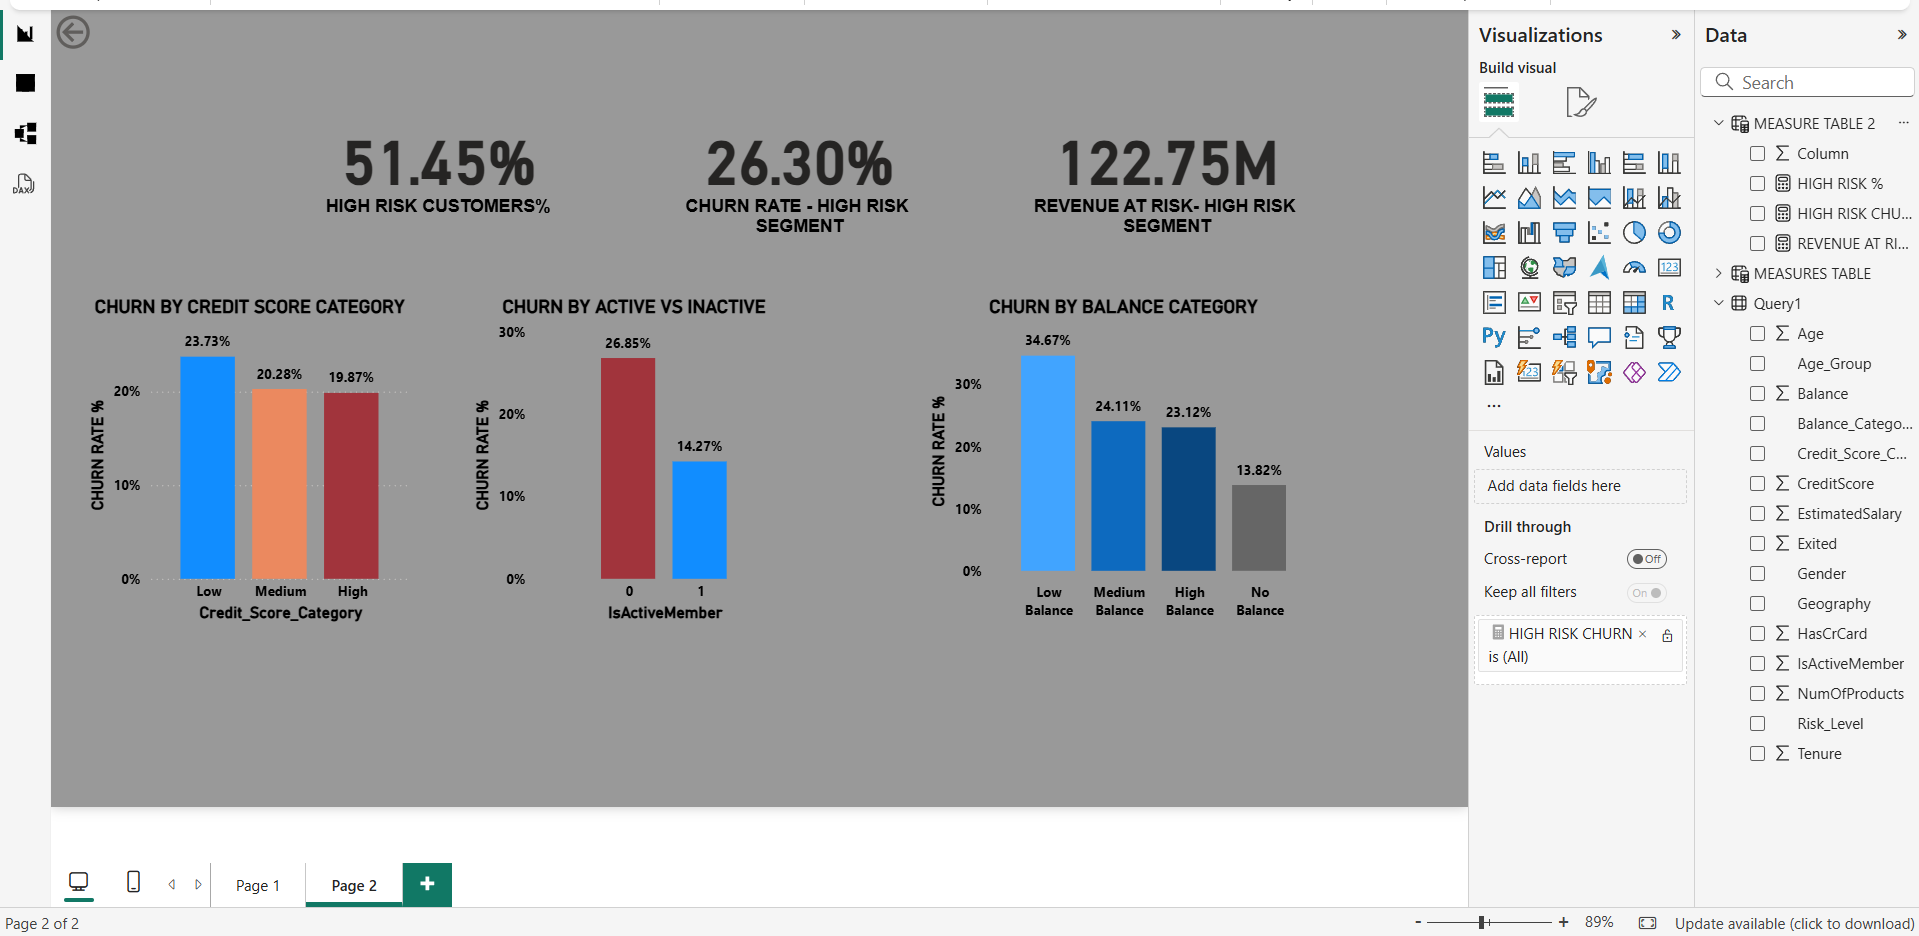

What the dashboard file says about the page in this screenshot:
{"tool":"powerbi","page":{"name":"Page 2","canvas":[1280,720],"ordinal":1},"visuals":[{"type":"card","fields":{"Values":["MEASURE TABLE 2.HIGH RISK %"]},"box":[210,0,280,280],"z":0},{"type":"card","fields":{"Values":["MEASURE TABLE 2.HIGH RISK CHURN"]},"box":[536.3,0,280,280],"z":1},{"type":"actionButton","box":[0,0,100,40],"z":2},{"type":"card","fields":{"Values":["MEASURE TABLE 2.REVENUE AT RISK (HIGH RISK)"]},"box":[868.3,0,280,280],"z":3},{"type":"clusteredColumnChart","title":"CHURN BY CREDIT SCORE CATEGORY","fields":{"Category":["Query1.Credit_Score_Category"],"Y":["MEASURES TABLE.CHURN RATE %"]},"box":[29.4,257.4,300.4,300.4],"z":4},{"type":"clusteredColumnChart","title":"CHURN BY ACTIVE VS INACTIVE","fields":{"Category":["Query1.IsActiveMember"],"Y":["MEASURES TABLE.CHURN RATE %"]},"box":[377.1,257.4,299.2,300.4],"z":5},{"type":"clusteredColumnChart","title":"CHURN BY BALANCE CATEGORY","fields":{"Category":["Query1.Balance_Category"],"Y":["MEASURES TABLE.CHURN RATE %"]},"box":[789.3,257.4,359.1,300.4],"z":6}]}

Visuals, with their boxes on the page's 1280x720 design canvas (x1, y1, x2, y2). These are canvas units, not pixel positions in the 1919x936 screenshot, which may show the page scaled, cropped or inside an application window:
card - MEASURE TABLE 2.HIGH RISK %: bbox=(210, 0, 490, 280)
card - MEASURE TABLE 2.HIGH RISK CHURN: bbox=(536, 0, 816, 280)
actionButton: bbox=(0, 0, 100, 40)
card - MEASURE TABLE 2.REVENUE AT RISK (HIGH RISK): bbox=(868, 0, 1148, 280)
"CHURN BY CREDIT SCORE CATEGORY" clusteredColumnChart: bbox=(29, 257, 330, 558)
"CHURN BY ACTIVE VS INACTIVE" clusteredColumnChart: bbox=(377, 257, 676, 558)
"CHURN BY BALANCE CATEGORY" clusteredColumnChart: bbox=(789, 257, 1148, 558)
